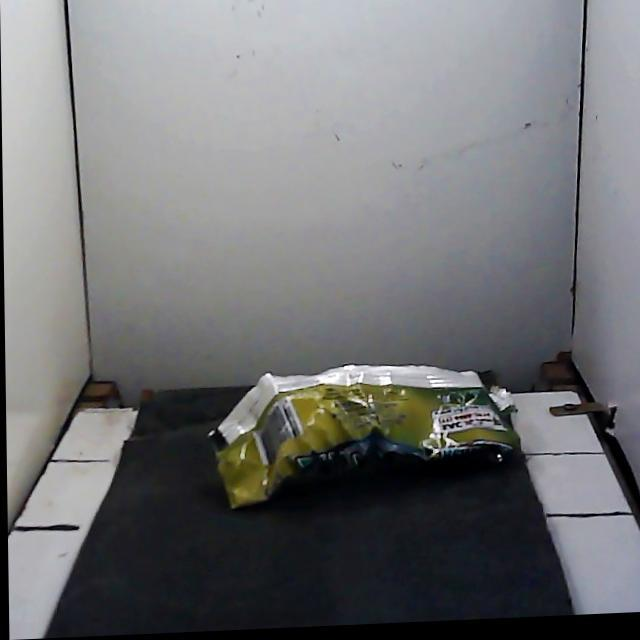plastico: (210, 365, 519, 507)
